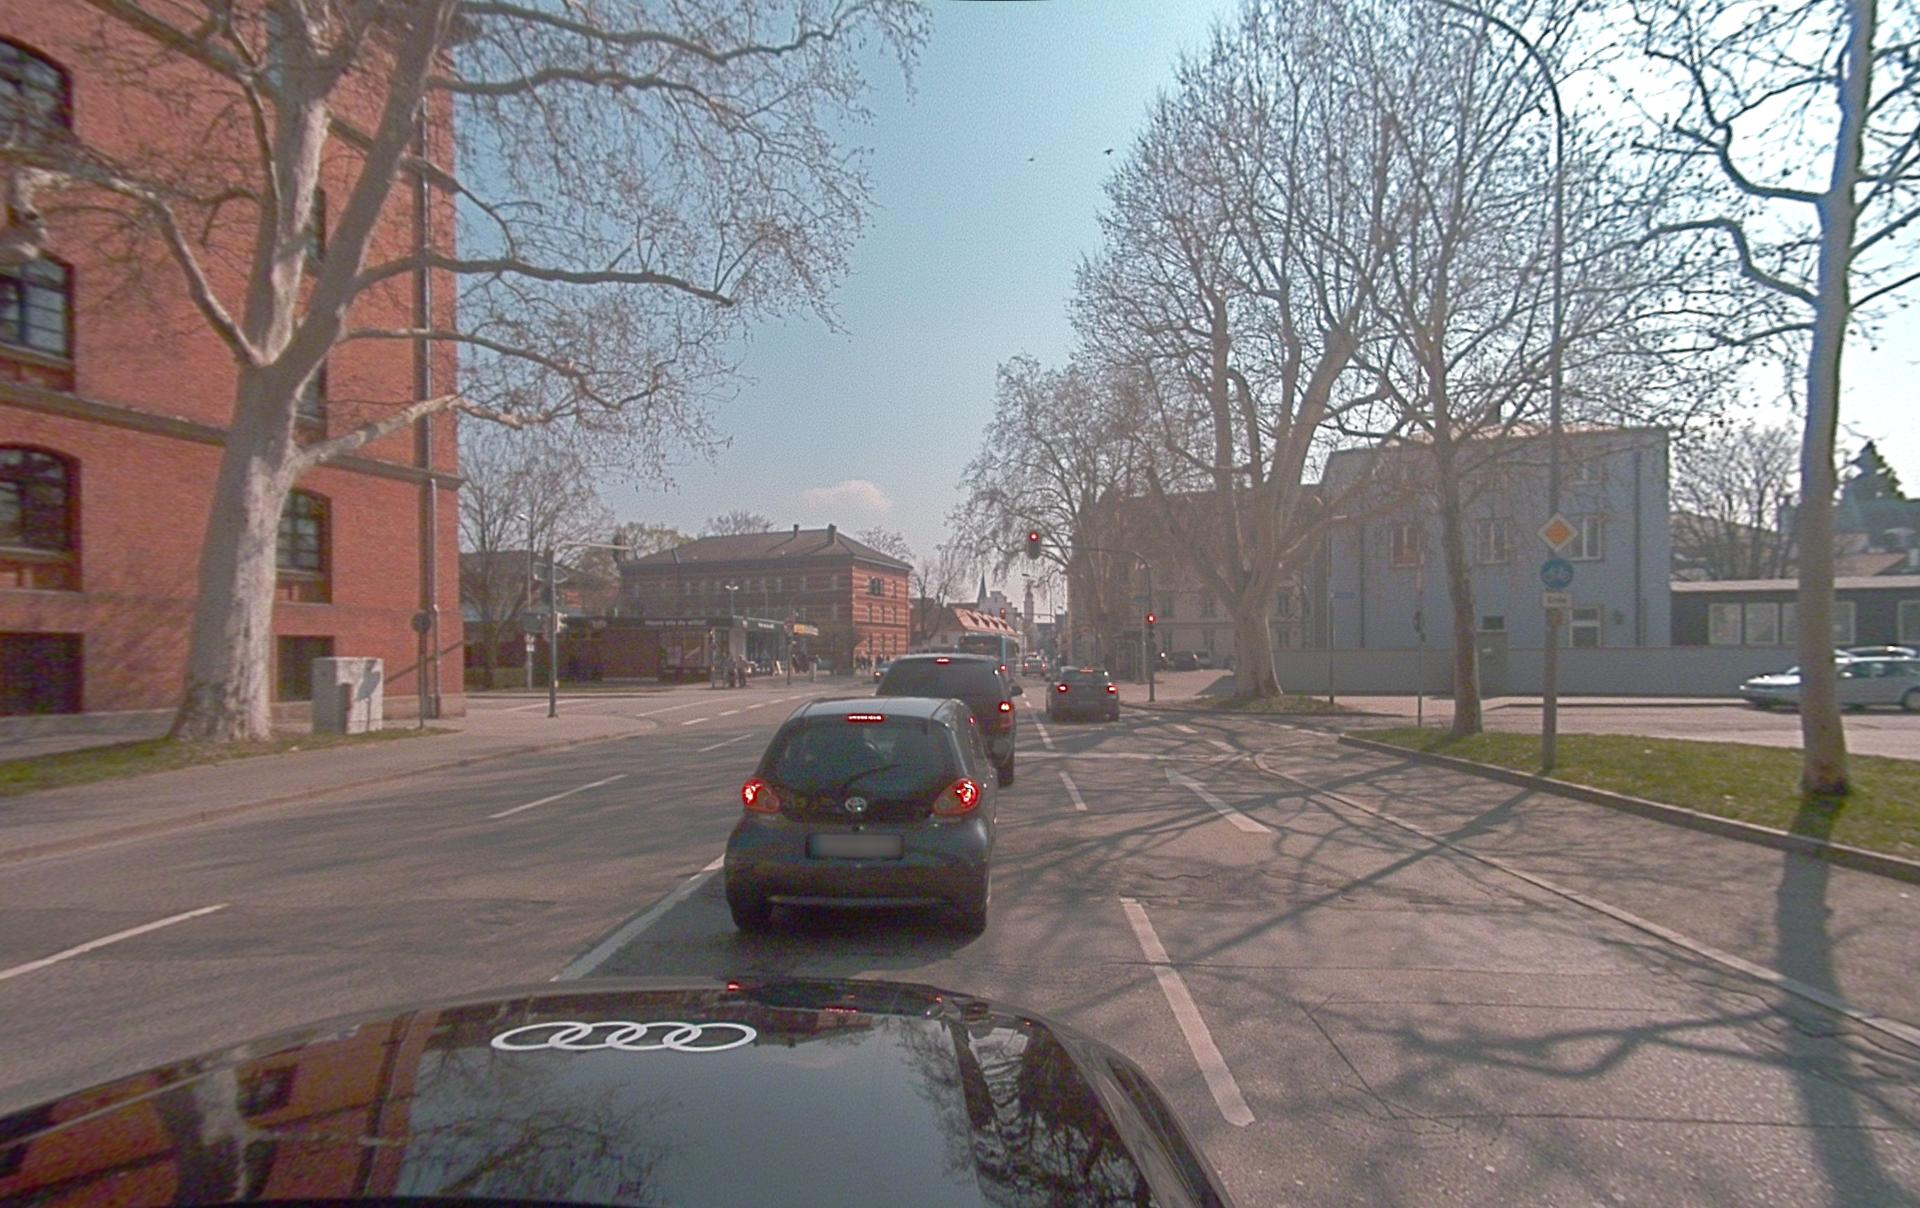car: (0, 976, 1238, 1208), (723, 696, 999, 935), (875, 653, 1016, 788), (1738, 649, 1920, 714), (1046, 665, 1120, 722), (957, 632, 1021, 697), (1021, 654, 1048, 676)
traffic sign: (1540, 557, 1575, 589)
